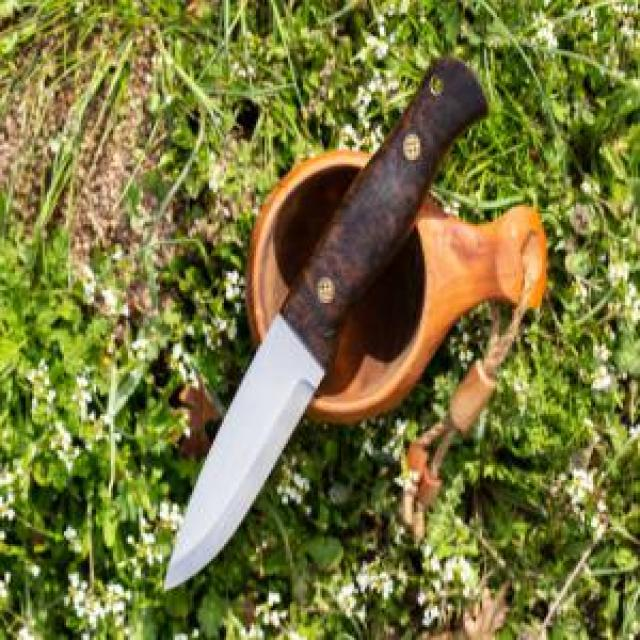knife: (162, 47, 490, 596)
